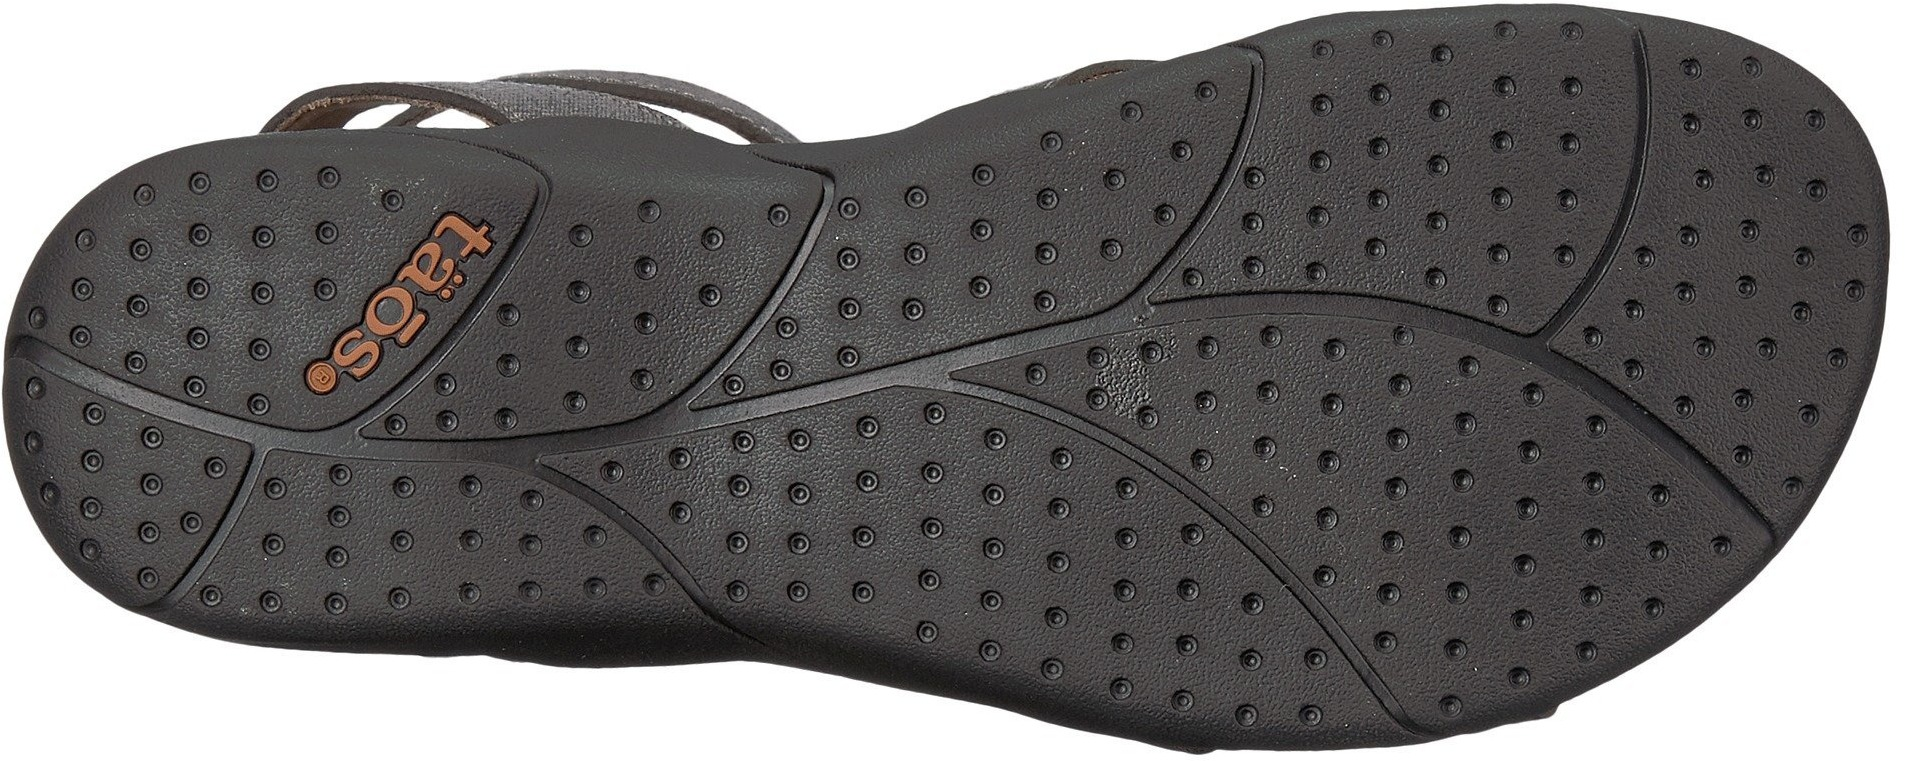circle: (1230, 365, 1717, 605), (1276, 53, 1588, 274), (685, 449, 1120, 585), (1669, 128, 1864, 336), (270, 464, 435, 611), (539, 222, 701, 372), (1075, 336, 1171, 418)
